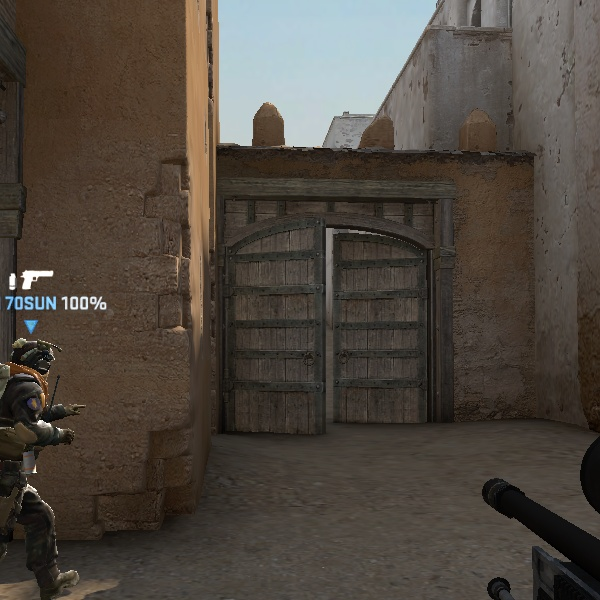ct_body: (2, 326, 90, 597)
ct_head: (2, 331, 62, 399)
